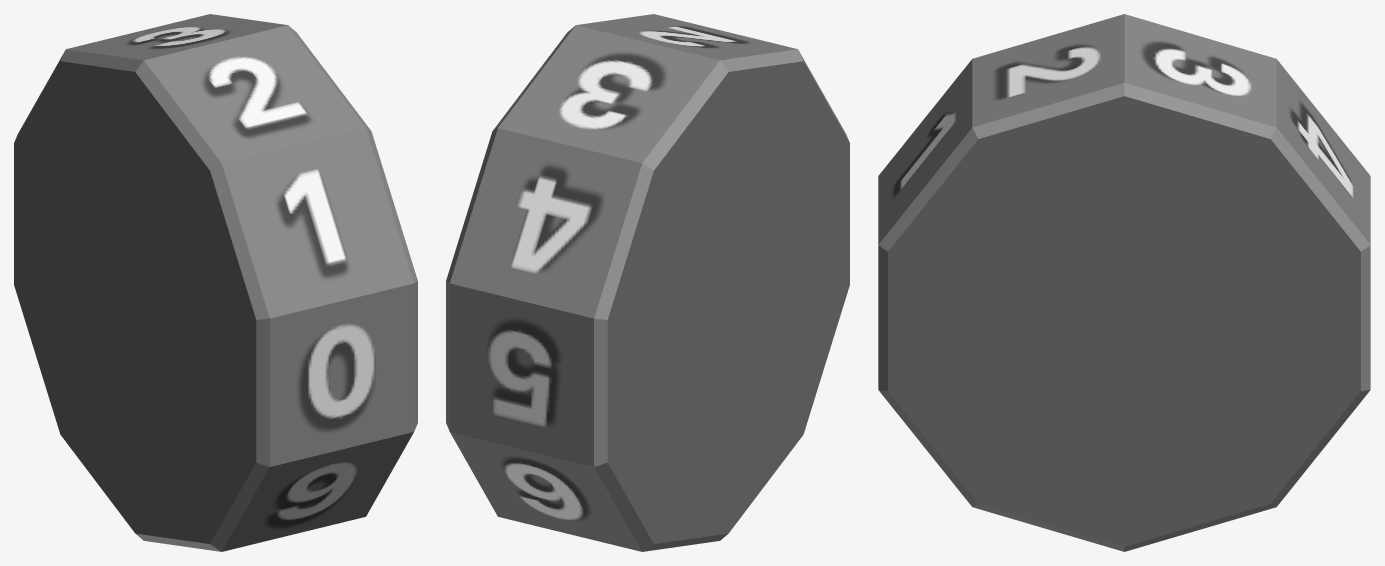
File: PadlockRullet.glb
The picture shows the model from 3 angles, left to right: view 1: azimuth 30°, elevation 25°; view 2: azimuth 150°, elevation 25°; view 3: azimuth 270°, elevation 25°; orthographic projection. The views are drawn at different scales.
Visible parts, largest first — view 1: PadlockRullet; view 2: PadlockRullet; view 3: PadlockRullet.
Boxes of the visible parts, x1=… form: PadlockRullet: x1=14, y1=14, x2=417, y2=551; PadlockRullet: x1=446, y1=14, x2=849, y2=551; PadlockRullet: x1=878, y1=14, x2=1370, y2=551.
Bounding box in the file's own units: 0.0696 × 0.1978 × 0.1881.
Materials: 2 (2 with a texture image).
